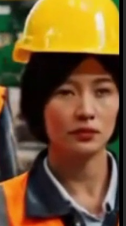Insaf: (3, 2, 126, 222)
